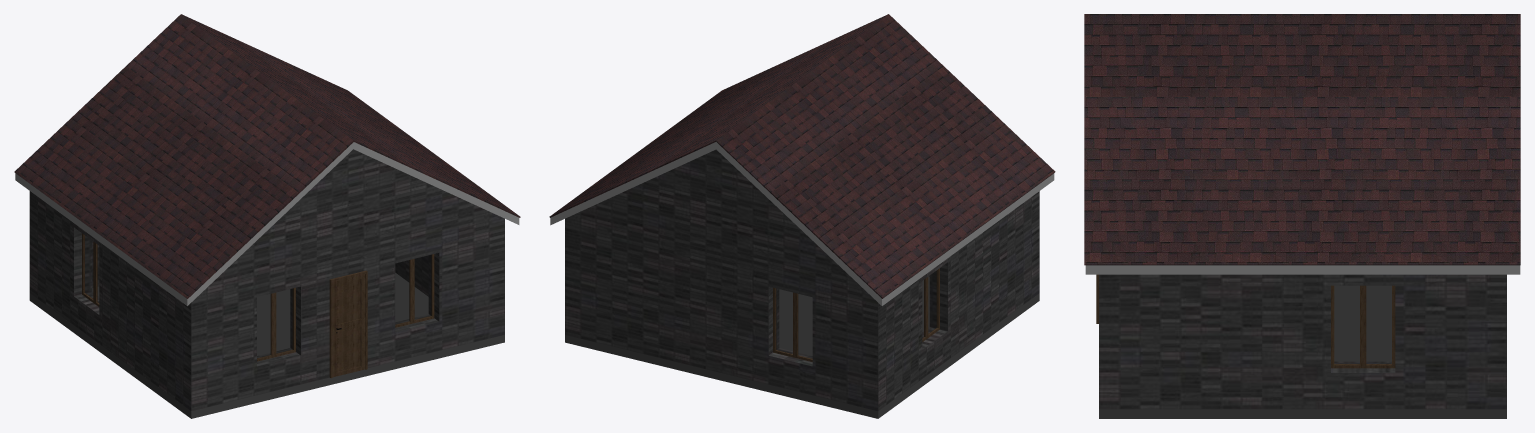
Rendered from Cape.gltf.
3 views of the same model, side by side, from view 1: azimuth 30°, elevation 25°; view 2: azimuth 150°, elevation 25°; view 3: azimuth 270°, elevation 25° (orthographic). The views are drawn at different scales.
Visible parts, largest first — view 1: Box001, Rectangle001, Box002, Object001 (×3), Object003, Plane001 (×3), Plane003; view 2: Box001, Rectangle001, Box002, Object001 (×2), Plane001 (×2); view 3: Rectangle001, Box001, Box002, Object001, Plane001.
Boxes of the visible parts, x1,y1,x2,y2 form: Box001: [29, 149, 504, 411]; Rectangle001: [14, 14, 520, 305]; Box002: [29, 273, 504, 418]; Object001 (×3): [85, 236, 431, 358]; Object003: [333, 274, 364, 377]; Plane001 (×3): [82, 233, 434, 361]; Plane003: [329, 270, 367, 377]; Box001: [565, 149, 1039, 410]; Rectangle001: [549, 14, 1055, 305]; Box002: [565, 276, 1039, 418]; Object001 (×2): [776, 271, 936, 358]; Plane001 (×2): [773, 268, 939, 361]; Rectangle001: [1084, 14, 1520, 274]; Box001: [1099, 274, 1506, 409]; Box002: [1099, 285, 1506, 418]; Object001: [1334, 286, 1391, 363]; Plane001: [1331, 285, 1395, 368].
Size of the model in its own units: 9.08 by 6.36 by 8.15.
Materials: 7 (3 with a texture image).
